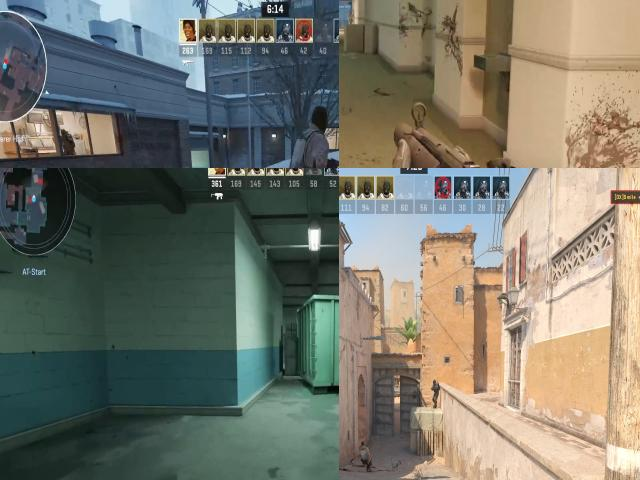CT: (59, 126, 76, 158), (432, 378, 439, 406)
CT-Head: (60, 128, 68, 139), (433, 379, 436, 384)
Dead: (356, 441, 377, 474)
T: (280, 126, 336, 168)
T-Head: (304, 103, 334, 138)
